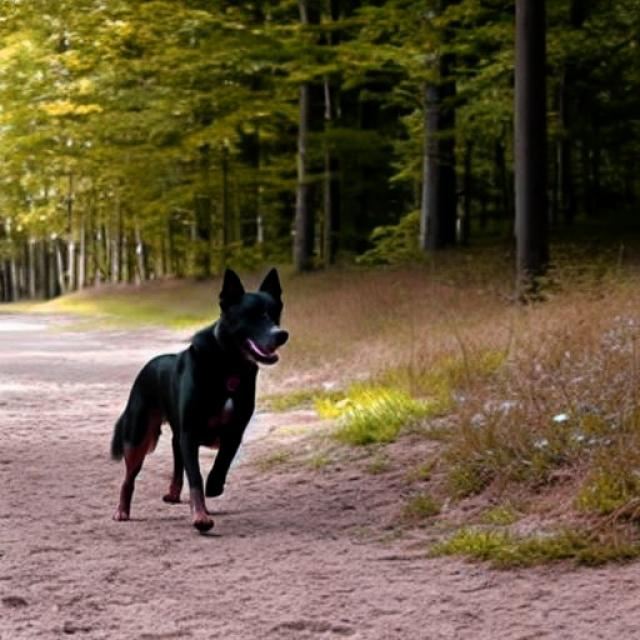Dog: (111, 266, 290, 536)
